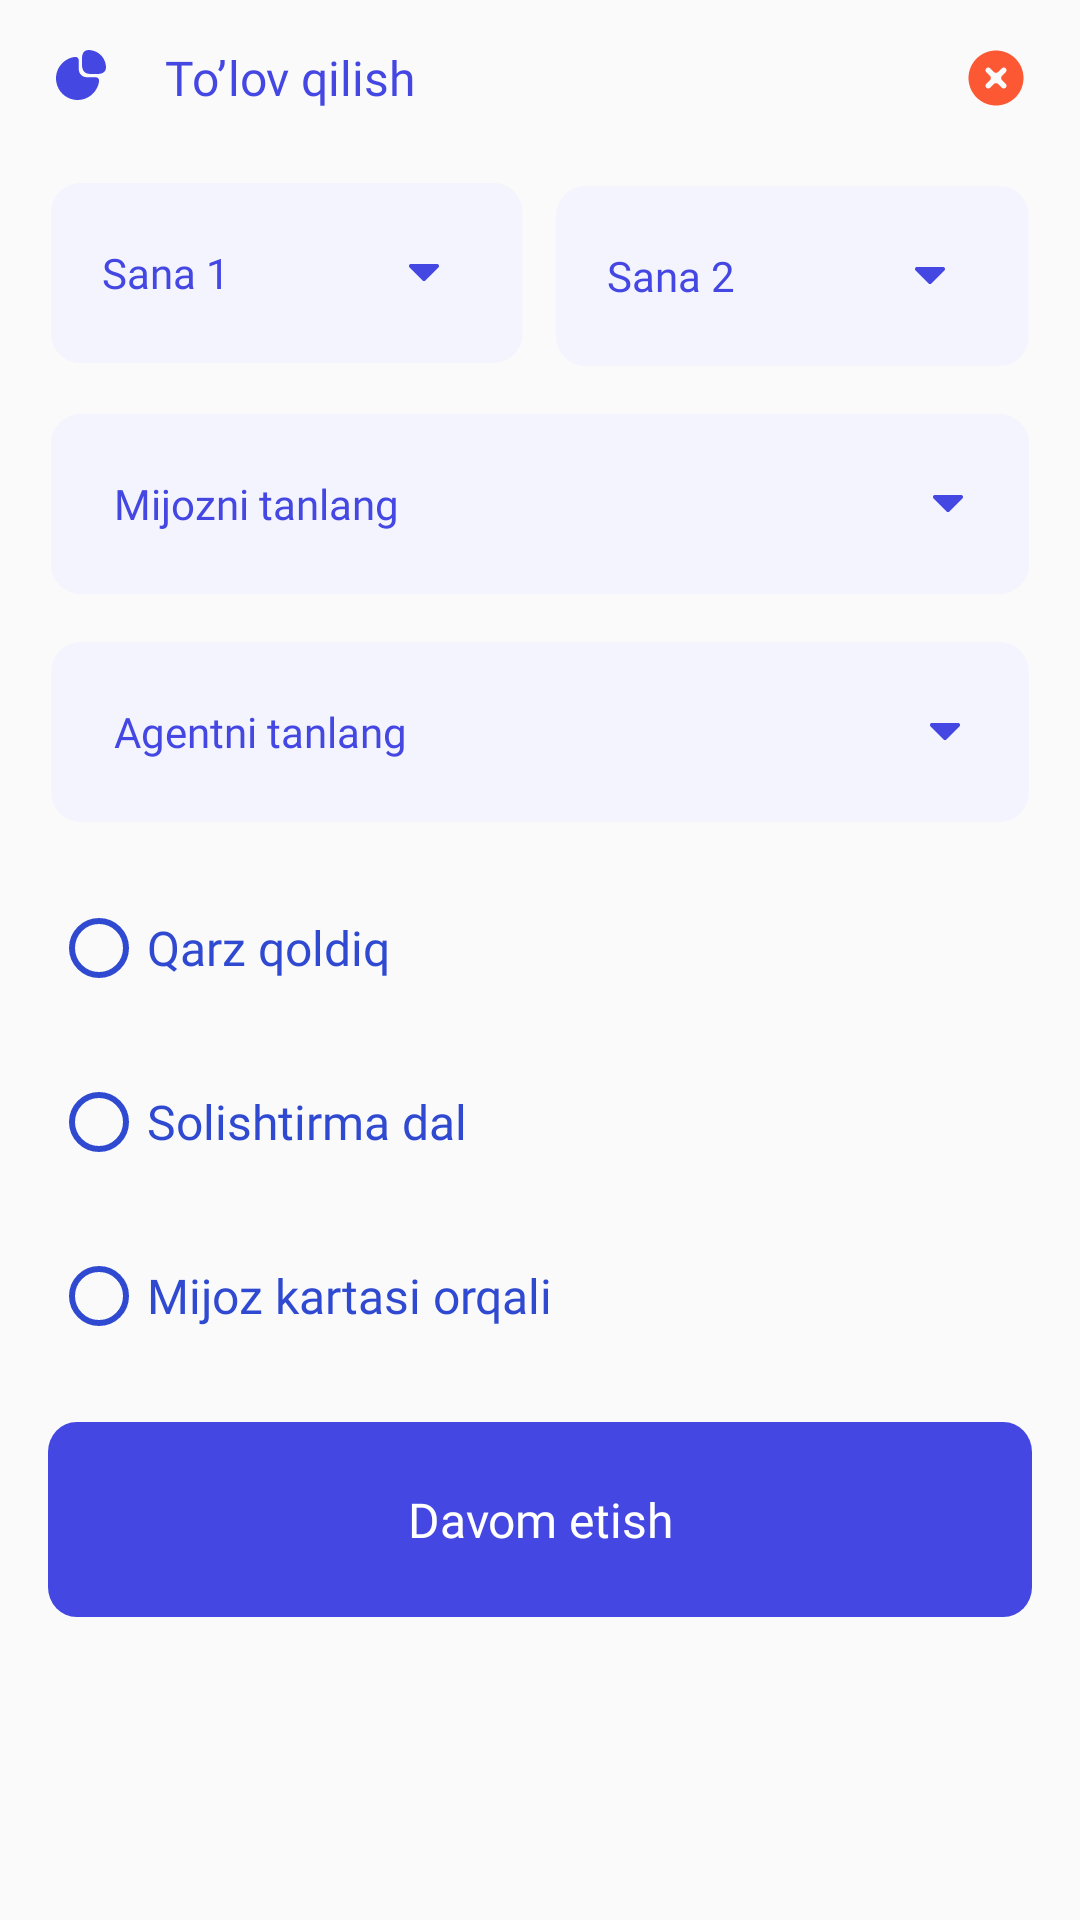

Where to tap for icons on this 1080px x 1920px app screen, as [x,y]:
close dialog: [996,78]
graph reports: [81,75]
